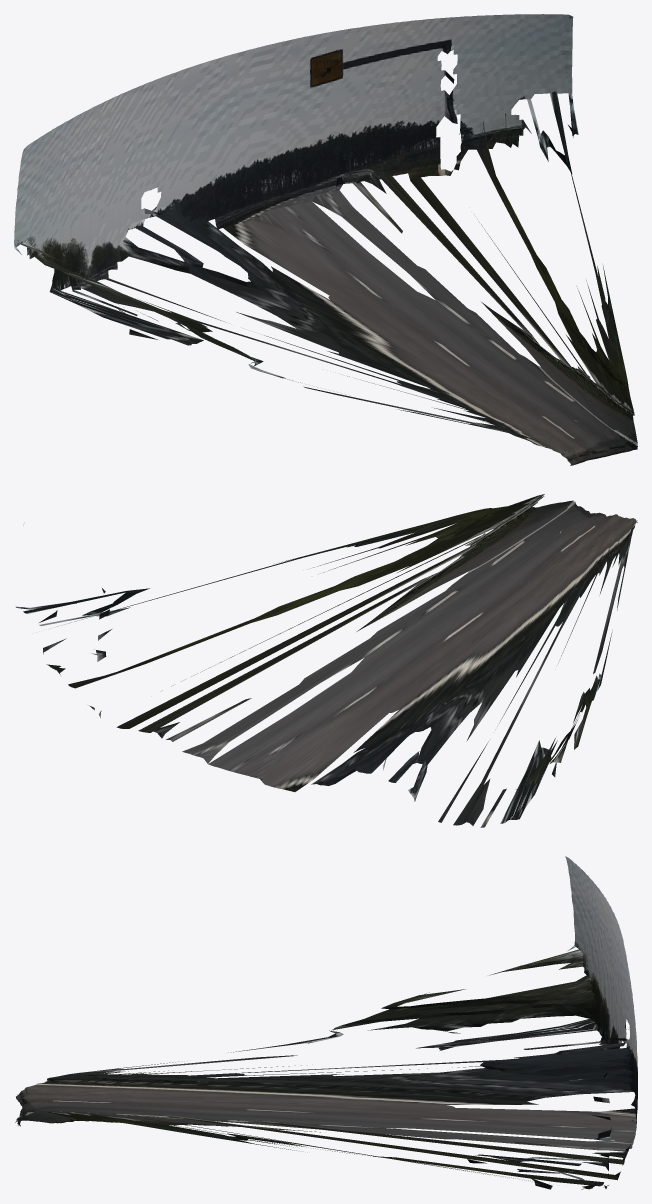
3 views of the same model, one above another, from view 1: azimuth 30°, elevation 25°; view 2: azimuth 150°, elevation 25°; view 3: azimuth 270°, elevation 25° (orthographic). The views are drawn at different scales.
Parts seen in each view (by area): view 1: defaultobject; view 2: defaultobject; view 3: defaultobject.
Boxes of the visible parts, box(x1,y1,x2,y2) form: defaultobject: box(14, 14, 637, 465); defaultobject: box(15, 494, 637, 827); defaultobject: box(15, 856, 637, 1189).
Size of the model in its own units: 41.11 by 13.17 by 44.48.
Materials: 1 (1 with a texture image).
